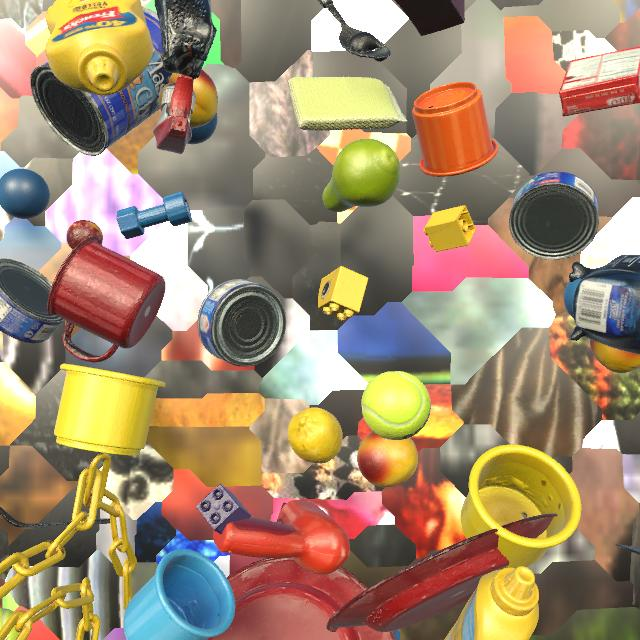ycb_002_master_chef_can: (30, 7, 172, 156)
ycb_006_mustard_bottle: (45, 0, 154, 95), (444, 566, 539, 640)
ycb_007_tuna_fish_can: (509, 171, 599, 260), (197, 279, 286, 367), (0, 259, 65, 343)
ycb_009_gelatin_box: (559, 46, 640, 117)
ycb_014_lemon: (288, 407, 342, 463)
ycb_015_peach: (159, 69, 218, 128), (357, 431, 418, 487), (590, 339, 640, 373)
ycb_016_pear: (322, 139, 401, 212)
